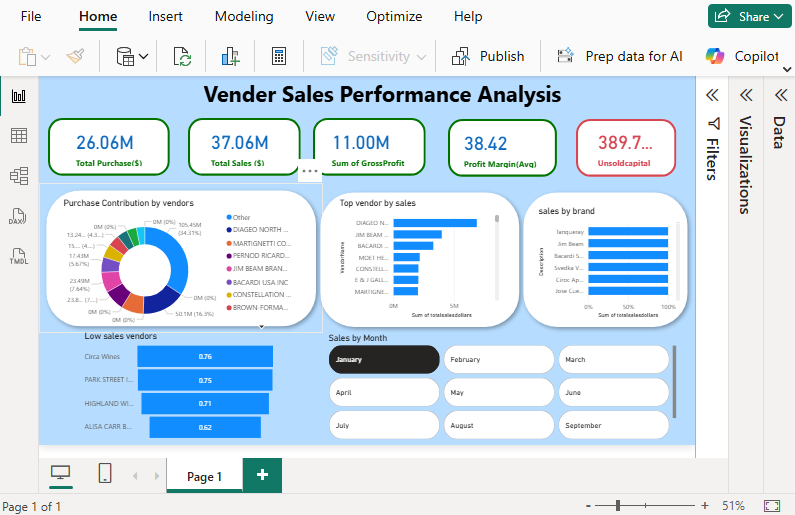

This screenshot's page, from the dashboard's own definition file:
{"tool":"powerbi","page":{"name":"Page 1","canvas":[1280,720],"ordinal":0},"visuals":[{"type":"shape","box":[290,82.5,220,112.5],"z":0},{"type":"cardVisual","fields":{"Data":["Sum(vendor_sales_summary.totalsalesdollars)"]},"box":[317.5,92.5,170,90],"z":1000},{"type":"textbox","box":[316.7,0,785.4,70.8],"z":2000},{"type":"shape","box":[17.5,82.5,237.5,112.5],"z":3000},{"type":"shape","box":[797.9,83.3,212.5,112.5],"z":4000},{"type":"cardVisual","fields":{"Data":["Avg(vendor_sales_summary.ProfitMargin)"]},"box":[812.5,93.8,181.2,91.7],"z":5000},{"type":"cardVisual","fields":{"Data":["Sum(vendor_sales_summary.totalPurchaseDollars)"]},"box":[55,92.5,177.5,90],"z":6000},{"type":"shape","box":[535,82.5,220,112.5],"z":7000},{"type":"shape","box":[1047.9,83.3,195.8,112.5],"z":8000},{"type":"cardVisual","fields":{"Data":["Sum(vendor_sales_summary.GrossProfit)"]},"box":[555,92.5,177.5,97.5],"z":9000},{"type":"shape","box":[0,208.3,554.7,293.6],"z":10000},{"type":"cardVisual","fields":{"Data":["Sum(vendor_sales_summary.unsoldcapital)"]},"box":[1072.9,91.7,145.8,91.7],"z":11000},{"type":"shape","box":[534.6,213.3,416.6,291.1],"z":11500},{"type":"donutChart","title":"Purchase Contribution by vendors","fields":{"Y":["Sum(Purchase_contribution.Purchase_Contribution)","Sum(Purchase_contribution.totalPurchaseDollars)"],"Category":["Purchase_contribution.VendorGroup"]},"box":[42.7,238.4,464.3,263.5],"z":12000},{"type":"clusteredBarChart","title":"Top vendor by sales","fields":{"Category":["vendor_sales_summary.VendorName"],"Y":["Sum(vendor_sales_summary.totalsalesdollars)"]},"box":[582.3,238.4,321.3,238.4],"z":13000},{"type":"shape","box":[931.1,213.3,348.9,291.1],"z":13001},{"type":"hundredPercentStackedBarChart","title":"sales by brand","fields":{"Category":["vendor_sales_summary.Description"],"Y":["Sum(vendor_sales_summary.totalsalesdollars)"]},"box":[968.8,253.5,286.1,223.4],"z":13002},{"type":"funnel","title":"Low sales vendors","fields":{"Category":["LowTurnoverVendor.VendorName"],"Y":["Sum(LowTurnoverVendor.AvgStockTurnover)"]},"box":[83.5,498.5,382.7,218.3],"z":13003},{"type":"advancedSlicerVisual","title":"Sales by Month","fields":{"Values":["vendor_sales_summary.date.Variation.Date Hierarchy.Month"]},"box":[560.5,501.2,689.9,215.6],"z":13004}]}

Visuals, with their boxes on the page's 1280x720 design canvas (x1, y1, x2, y2). These are canvas units, not pixel positions in the 795x515 screenshot, which may show the page scaled, cropped or inside an application window:
shape: x1=290 y1=82 x2=510 y2=195
cardVisual - Sum(vendor_sales_summary.totalsalesdollars): x1=318 y1=92 x2=488 y2=182
textbox: x1=317 y1=0 x2=1102 y2=71
shape: x1=18 y1=82 x2=255 y2=195
shape: x1=798 y1=83 x2=1010 y2=196
cardVisual - Avg(vendor_sales_summary.ProfitMargin): x1=812 y1=94 x2=994 y2=186
cardVisual - Sum(vendor_sales_summary.totalPurchaseDollars): x1=55 y1=92 x2=232 y2=182
shape: x1=535 y1=82 x2=755 y2=195
shape: x1=1048 y1=83 x2=1244 y2=196
cardVisual - Sum(vendor_sales_summary.GrossProfit): x1=555 y1=92 x2=732 y2=190
shape: x1=0 y1=208 x2=555 y2=502
cardVisual - Sum(vendor_sales_summary.unsoldcapital): x1=1073 y1=92 x2=1219 y2=183
shape: x1=535 y1=213 x2=951 y2=504
"Purchase Contribution by vendors" donutChart: x1=43 y1=238 x2=507 y2=502
"Top vendor by sales" clusteredBarChart: x1=582 y1=238 x2=904 y2=477
shape: x1=931 y1=213 x2=1280 y2=504
"sales by brand" hundredPercentStackedBarChart: x1=969 y1=254 x2=1255 y2=477
"Low sales vendors" funnel: x1=84 y1=498 x2=466 y2=717
"Sales by Month" advancedSlicerVisual: x1=560 y1=501 x2=1250 y2=717
